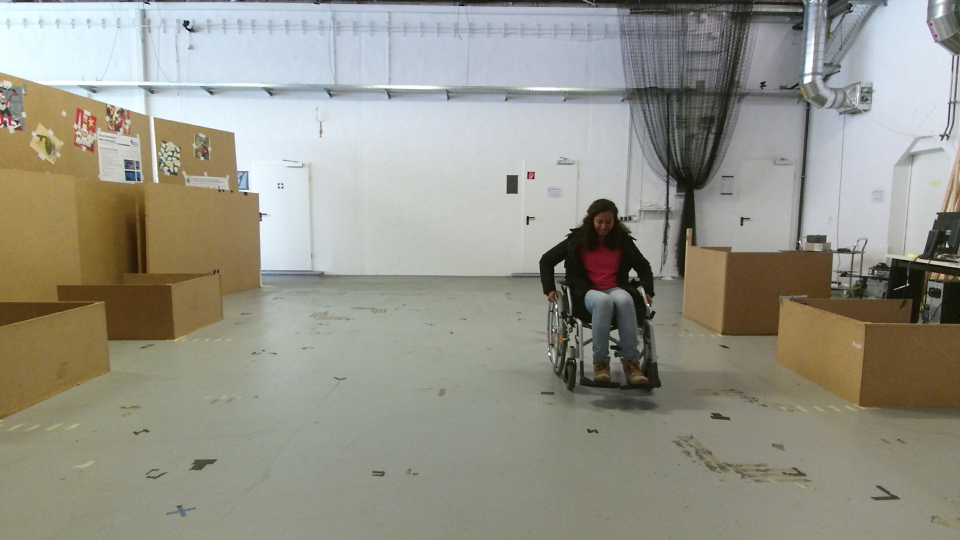wheelchair: (538, 193, 663, 397)
